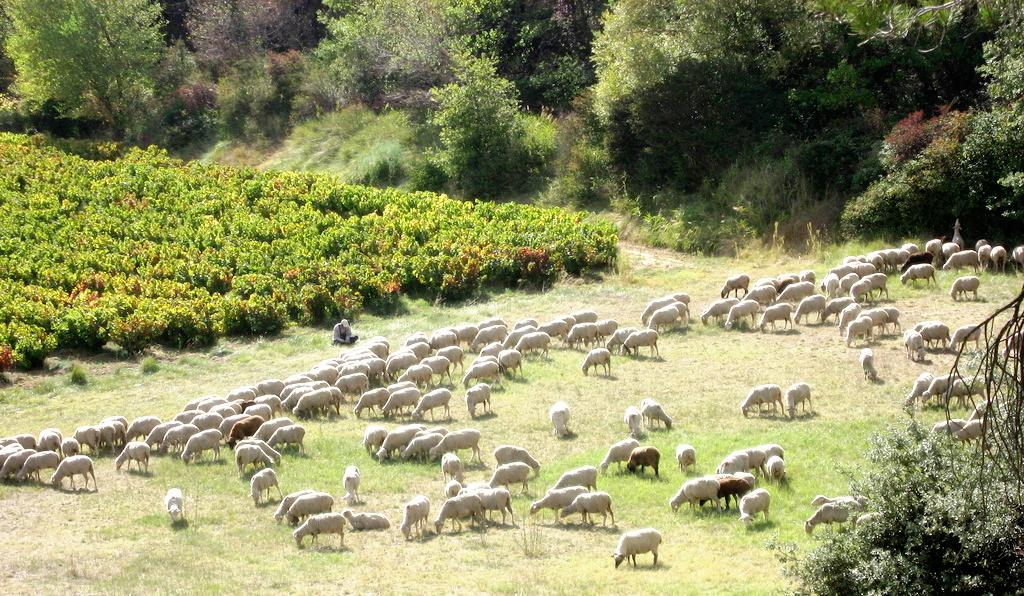Sheep: (528, 486, 592, 525), (433, 492, 487, 537), (457, 486, 515, 527), (610, 527, 663, 571), (559, 492, 617, 528), (428, 428, 485, 464), (544, 465, 599, 501), (292, 513, 347, 549), (670, 477, 722, 515), (51, 455, 100, 493), (922, 372, 968, 410), (598, 437, 641, 477), (284, 493, 334, 526), (273, 490, 317, 527), (804, 505, 858, 535), (180, 428, 222, 466), (15, 451, 61, 485), (398, 495, 431, 541), (494, 445, 541, 476), (486, 462, 530, 495), (233, 439, 282, 468), (740, 384, 783, 417), (248, 468, 285, 506), (234, 444, 275, 478), (412, 387, 453, 421), (0, 448, 39, 483), (380, 387, 419, 420), (158, 424, 200, 454), (341, 508, 391, 533), (145, 420, 184, 452), (700, 299, 743, 328), (114, 442, 150, 476), (738, 488, 770, 526), (352, 388, 392, 418), (125, 415, 162, 447), (641, 297, 679, 328), (626, 445, 660, 479), (620, 330, 661, 358), (905, 371, 935, 408), (463, 383, 493, 420), (793, 294, 827, 326), (784, 382, 814, 418), (641, 398, 673, 431), (725, 300, 758, 332), (949, 324, 983, 355), (758, 302, 793, 332), (418, 357, 453, 387), (566, 323, 603, 351), (469, 327, 510, 352), (579, 347, 613, 377), (917, 323, 952, 352), (547, 401, 573, 440), (645, 306, 680, 334), (899, 263, 938, 288), (513, 334, 552, 359), (341, 465, 364, 507), (942, 250, 979, 276), (899, 252, 936, 278), (820, 296, 854, 324), (624, 404, 651, 439), (71, 426, 101, 457), (98, 421, 128, 452), (441, 452, 466, 487), (163, 487, 186, 524), (837, 303, 862, 337), (88, 423, 117, 452), (811, 494, 857, 512), (903, 329, 927, 363), (718, 273, 750, 298), (36, 431, 62, 461), (950, 277, 981, 302), (675, 444, 697, 476), (766, 454, 786, 487), (990, 244, 1007, 276), (59, 438, 81, 458)
